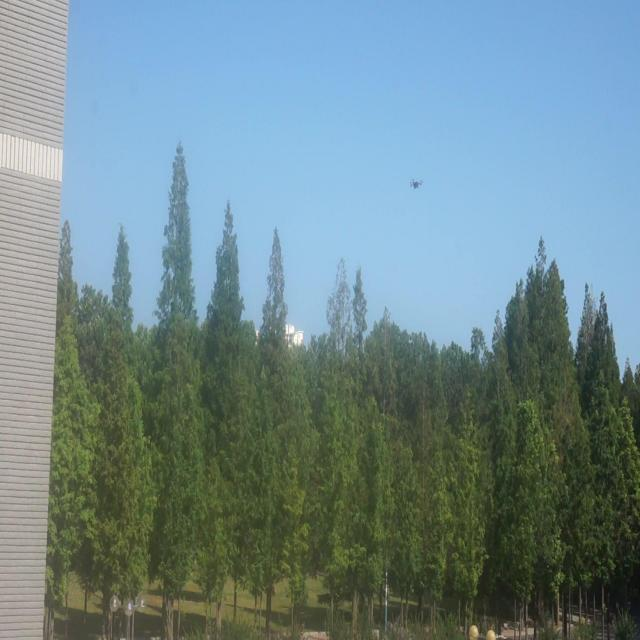UAV: (410, 179, 422, 188)
